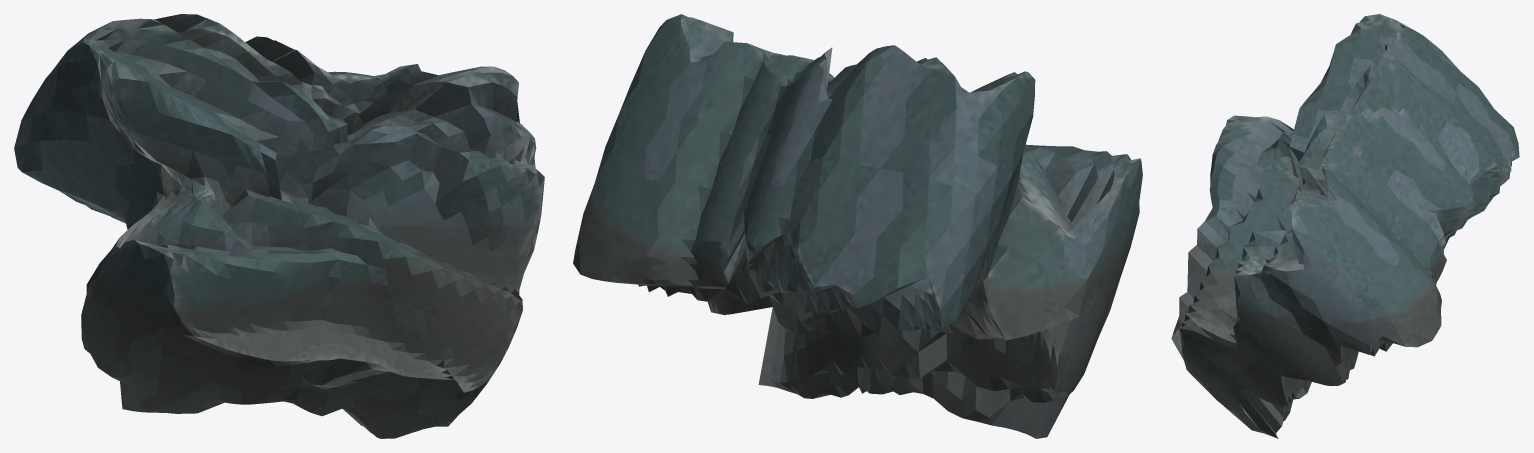
The model's file is huge-oxide-asteroid.glb.
3 views of the same model, side by side, from view 1: azimuth 30°, elevation 25°; view 2: azimuth 150°, elevation 25°; view 3: azimuth 270°, elevation 25° (orthographic). The views are drawn at different scales.
Parts seen in each view (by area): view 1: body; view 2: body; view 3: body.
Part boxes in pixels (left/top/right/bottom): body: left=14, top=14, right=544, bottom=438; body: left=573, top=14, right=1142, bottom=438; body: left=1171, top=14, right=1519, bottom=438.
Bounding box in the file's own units: 11.01 × 10.13 × 10.12.
Materials: 1 (1 with a texture image).
